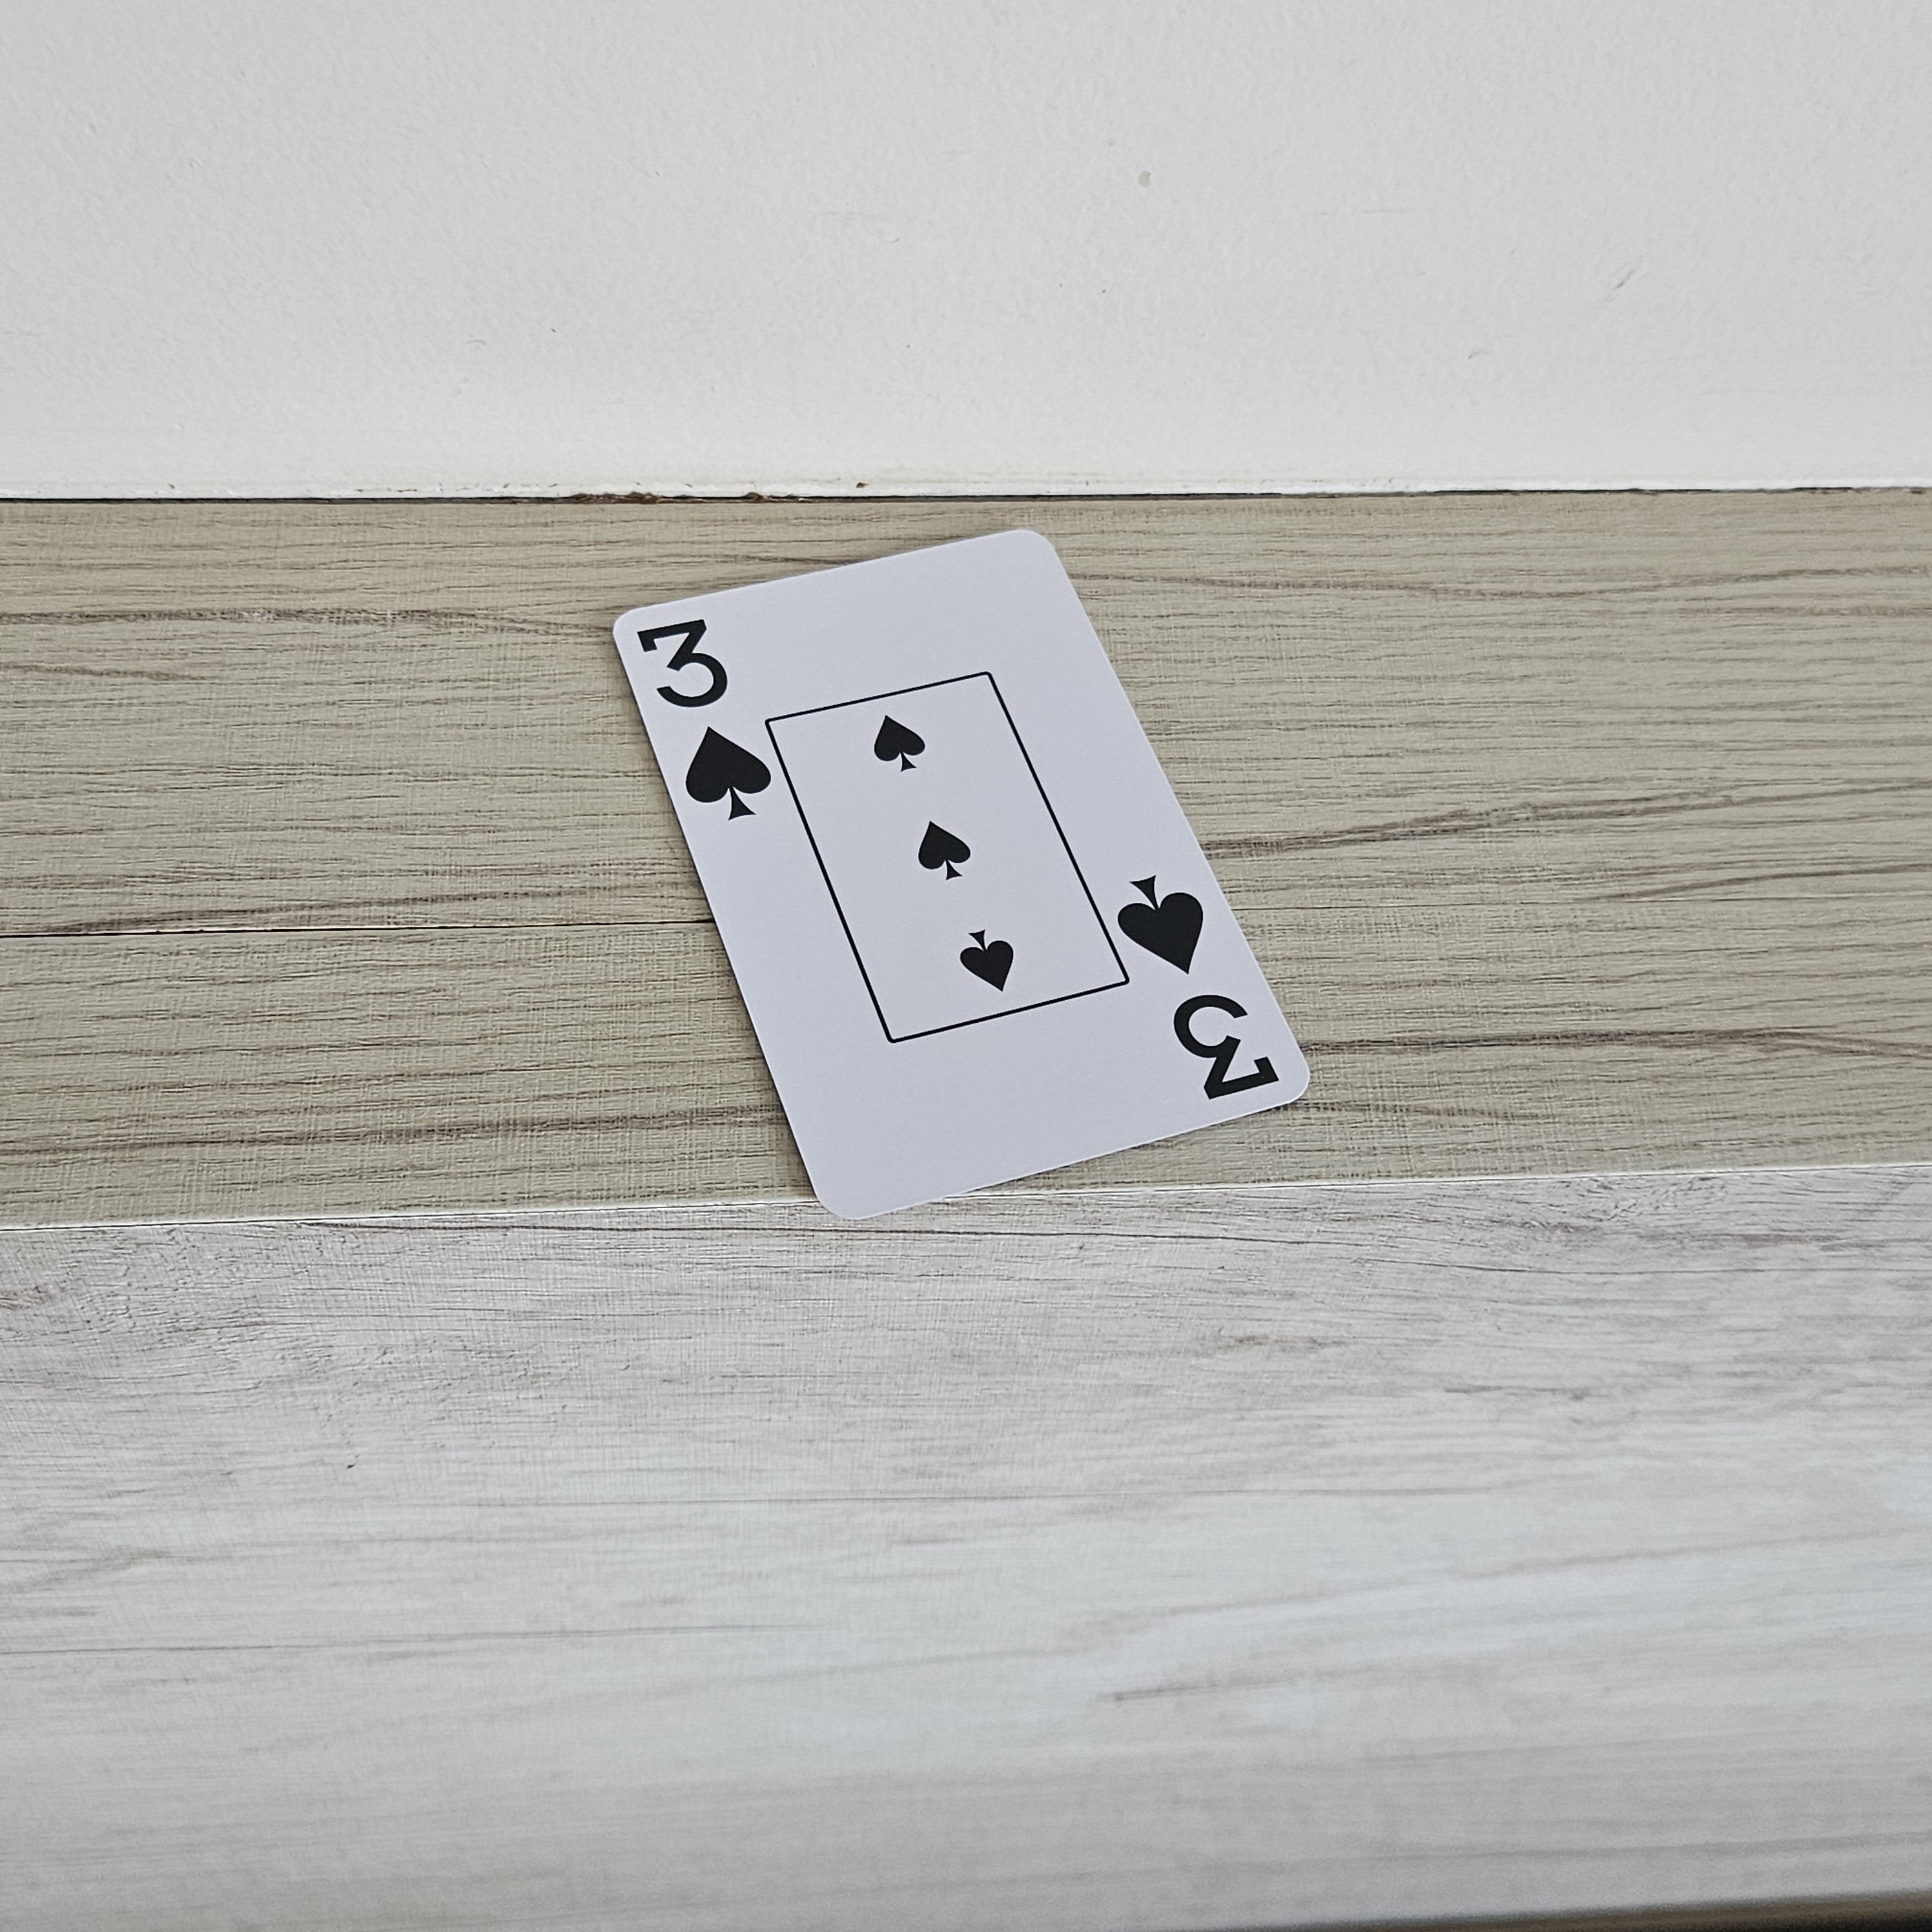3E: (1102, 860, 1293, 1115), (626, 609, 786, 837)
